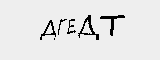Г: (54, 16, 69, 36)
Д: (78, 12, 100, 41), (40, 16, 58, 41)
Е: (66, 16, 78, 37)
Т: (99, 11, 128, 39)
